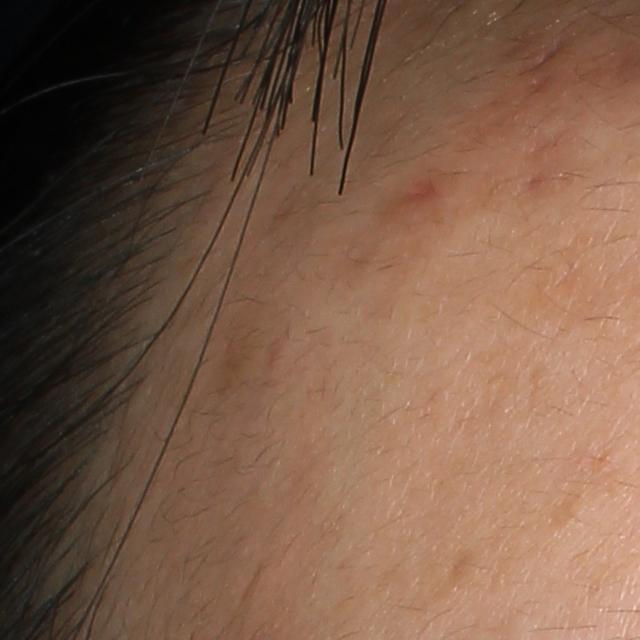atrophic_scar: (518, 116, 581, 165), (508, 31, 563, 78), (490, 173, 568, 204)
